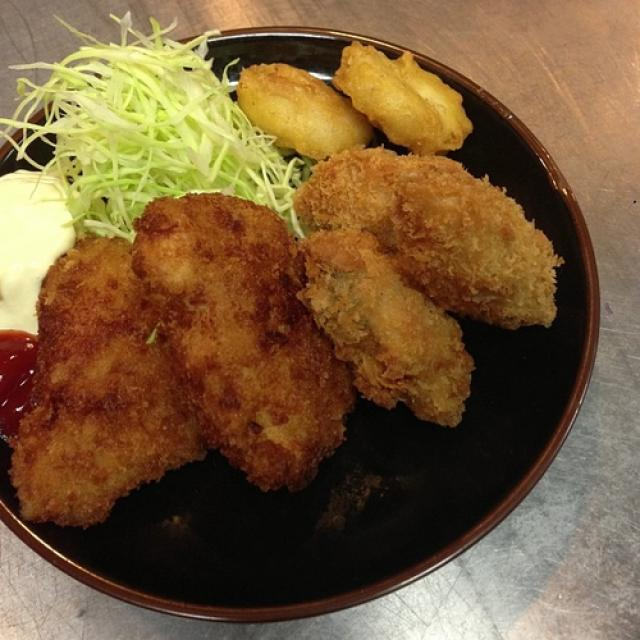Chicken nugget: (5, 190, 595, 546), (243, 41, 453, 139)
Sandwich: (25, 28, 240, 188)
